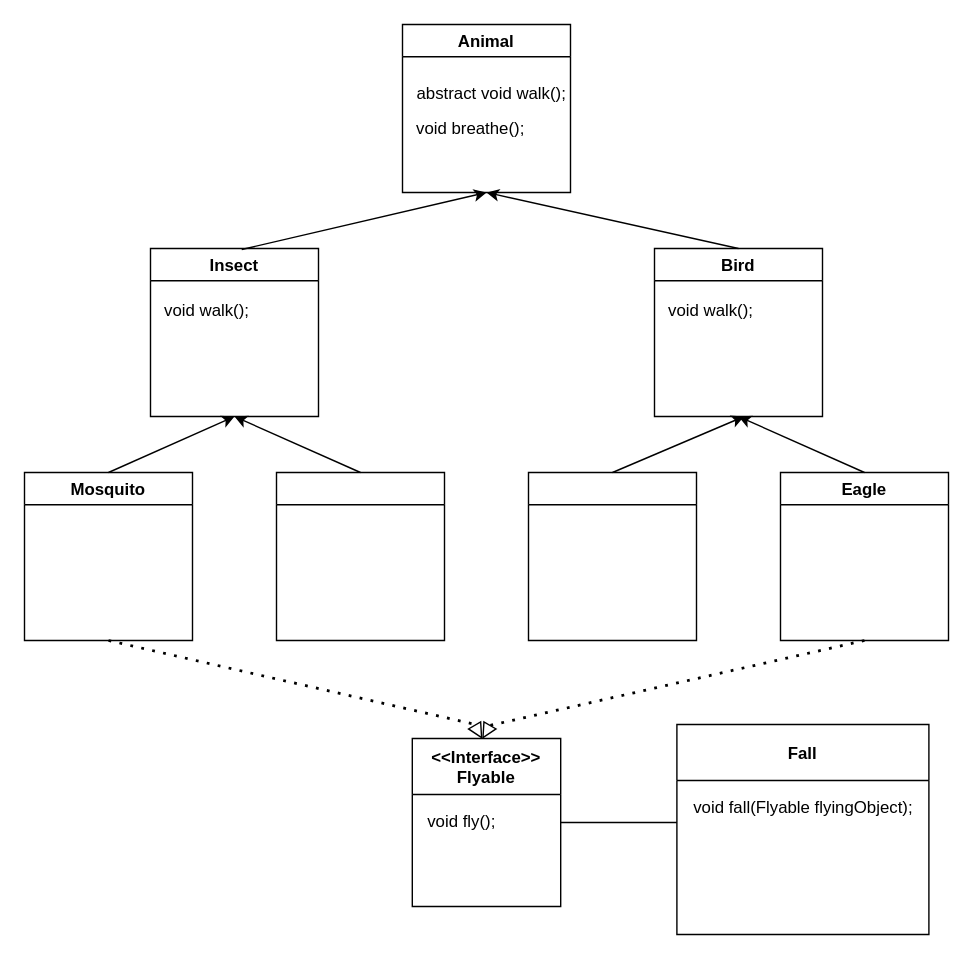
This 973x959 diagram has some shape labels left out. Each missing label, with the centre of its shape:
"Larva" belongs at pixel 359 555.
"Penguin" belongs at pixel 611 555.
